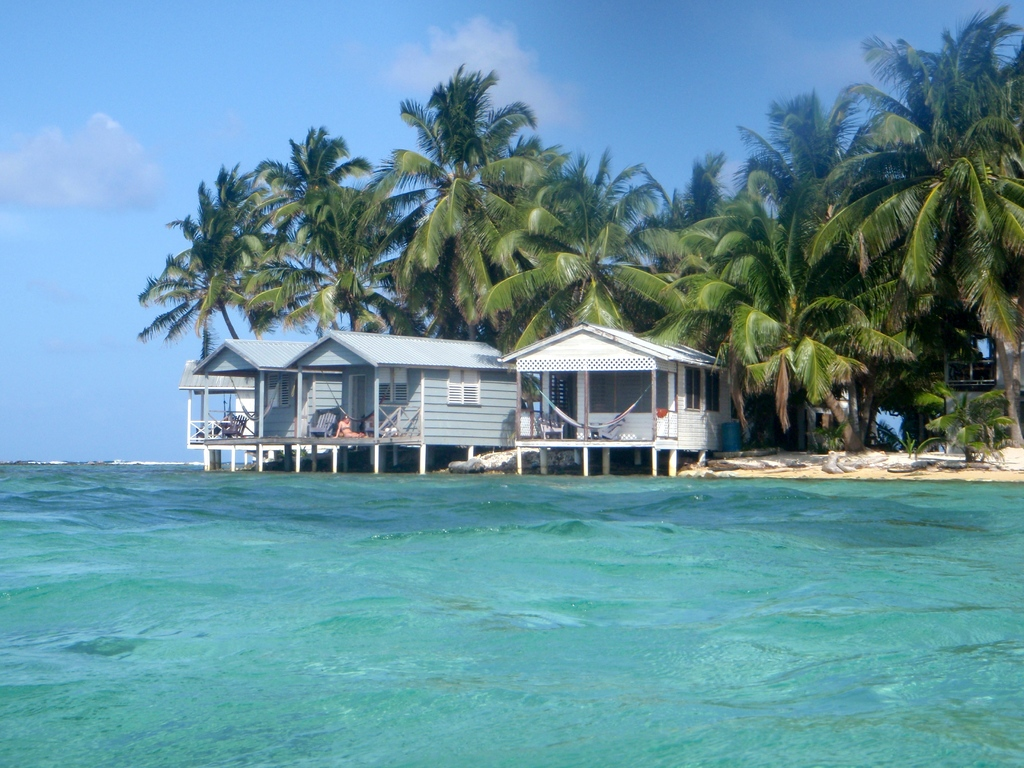Tree: (136, 0, 1024, 462)
